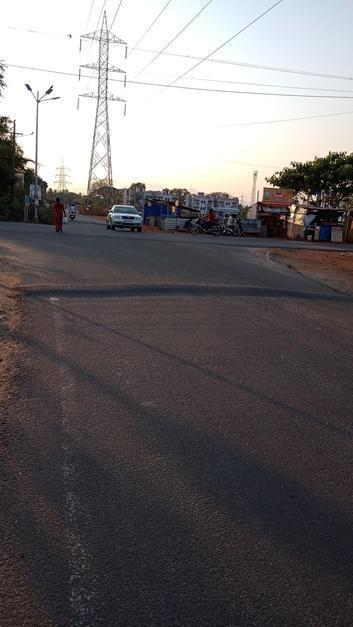speedbreaker: (1, 278, 347, 304)
